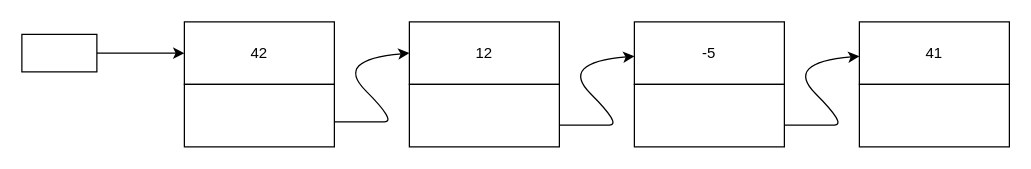
The diagram is 1031 pixels wide and 169 high, and some of its shapes have lost their labels. Each missing label, with the centre of its shape:
"head" goes at point (59, 52).
"NULL" goes at point (933, 115).
